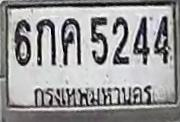2: (112, 16, 129, 64)
4: (132, 15, 150, 64), (154, 16, 170, 63)
5: (90, 16, 108, 65)
6: (14, 19, 31, 66)
A01: (36, 18, 56, 66)
A04: (60, 17, 82, 65)
BKK: (31, 82, 157, 112)
